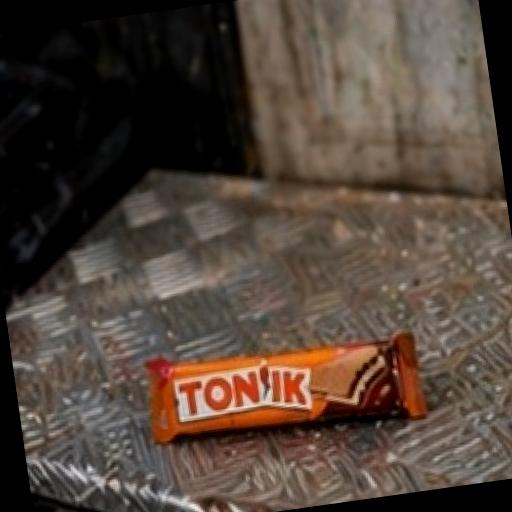tonik: (87, 237, 488, 512)
